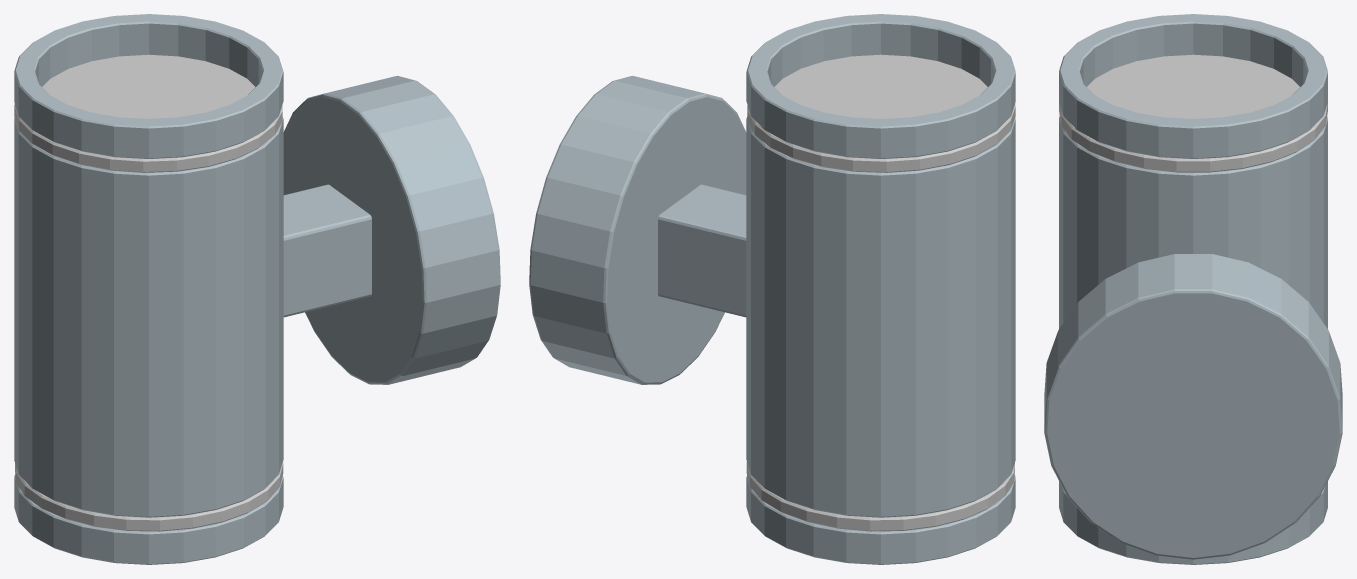
The model's file is twin wall lamp.fbx.
3 views of the same model, side by side, from view 1: azimuth 30°, elevation 25°; view 2: azimuth 150°, elevation 25°; view 3: azimuth 270°, elevation 25° (orthographic).
Visible parts, largest first — view 1: default; view 2: default; view 3: default.
Part boxes in pixels (x1=…): default: x1=14, y1=14, x2=500, y2=564; default: x1=529, y1=14, x2=1015, y2=564; default: x1=1044, y1=14, x2=1342, y2=564.
Bounding box in the file's own units: 15.25 × 16.17 × 9.98.
